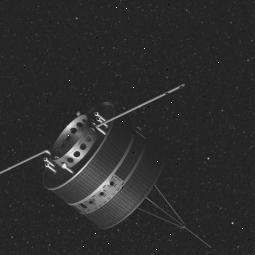double_start: (44, 76, 205, 236)
